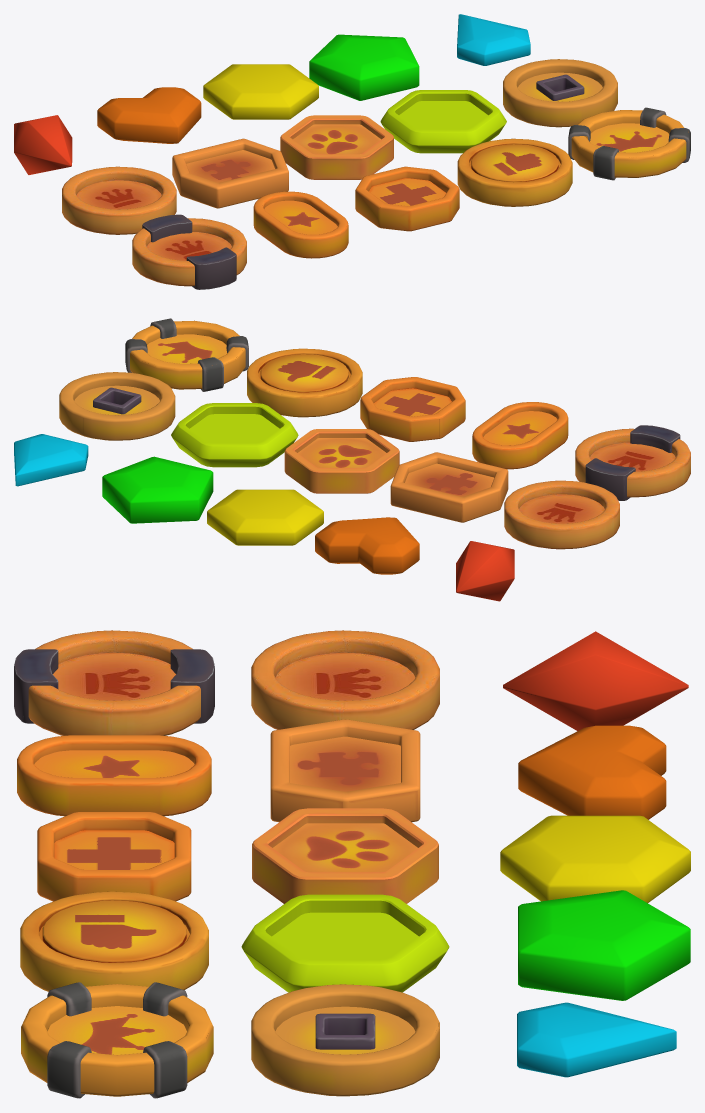
File: monedas.fbx
3 renders of one model, top to bottom at view 1: azimuth 30°, elevation 25°; view 2: azimuth 150°, elevation 25°; view 3: azimuth 270°, elevation 25°, orthographic. The views are drawn at different scales.
Visible parts, largest first — view 1: Cylinder.008, Cylinder.006, Cylinder.003, Cylinder.001, Cylinder, Cylinder.002, Cylinder.010, Cylinder.004, Cube.002, Cylinder.009, Cylinder.007, Cylinder.012 (+5 smaller); view 2: Cylinder.008, Cylinder.003, Cylinder.006, Cylinder.001, Cylinder.002, Cylinder, Cylinder.004, Cylinder.010, Cube.002, Cylinder.009, Cylinder.007, Cylinder.012 (+5 smaller); view 3: Cylinder.008, Cylinder.003, Cylinder.006, Cylinder.004, Cylinder.001, Cylinder.010, Cylinder, Cylinder.012, Cylinder.007, Cylinder.002, Cylinder.009, Cube.002 (+5 smaller).
Boxes of the visible parts, x1=… form: Cylinder.008: x1=568, y1=107, x2=690, y2=180; Cylinder.006: x1=457, y1=138, x2=572, y2=206; Cylinder.003: x1=62, y1=166, x2=176, y2=234; Cylinder.001: x1=380, y1=90, x2=506, y2=153; Cylinder: x1=280, y1=115, x2=393, y2=179; Cylinder.002: x1=172, y1=138, x2=288, y2=208; Cylinder.010: x1=309, y1=34, x2=419, y2=100; Cylinder.004: x1=503, y1=59, x2=617, y2=127; Cube.002: x1=355, y1=166, x2=459, y2=231; Cylinder.009: x1=203, y1=64, x2=318, y2=119; Cylinder.007: x1=253, y1=191, x2=348, y2=258; Cylinder.012: x1=132, y1=218, x2=246, y2=286; Cylinder.008: x1=125, y1=318, x2=248, y2=391; Cylinder.003: x1=504, y1=480, x2=619, y2=549; Cylinder.006: x1=247, y1=348, x2=362, y2=417; Cylinder.001: x1=171, y1=403, x2=298, y2=467; Cylinder.002: x1=390, y1=452, x2=508, y2=522; Cylinder: x1=284, y1=429, x2=399, y2=493; Cylinder.004: x1=59, y1=372, x2=175, y2=440; Cylinder.010: x1=102, y1=456, x2=213, y2=523; Cube.002: x1=360, y1=377, x2=465, y2=441; Cylinder.009: x1=207, y1=489, x2=323, y2=545; Cylinder.007: x1=472, y1=402, x2=568, y2=469; Cylinder.012: x1=575, y1=428, x2=690, y2=497; Cylinder.008: x1=21, y1=982, x2=213, y2=1098; Cylinder.003: x1=251, y1=630, x2=439, y2=729; Cylinder.006: x1=20, y1=891, x2=208, y2=991; Cylinder.004: x1=251, y1=984, x2=439, y2=1096; Cylinder.001: x1=241, y1=894, x2=449, y2=992; Cylinder.010: x1=518, y1=890, x2=690, y2=1000; Cylinder: x1=252, y1=808, x2=438, y2=903; Cylinder.012: x1=28, y1=630, x2=200, y2=735; Cylinder.007: x1=17, y1=735, x2=211, y2=816; Cylinder.002: x1=270, y1=719, x2=420, y2=822; Cylinder.009: x1=500, y1=815, x2=690, y2=903; Cube.002: x1=37, y1=812, x2=191, y2=901.
Size of the model in its own units: 1069 by 100 by 703.
